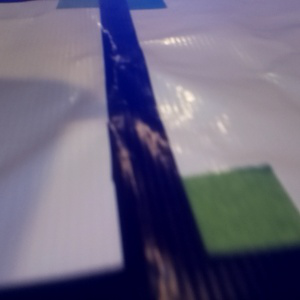bottom_left: (39, 1, 127, 20)
bottom_right: (99, 1, 189, 20)
top_right: (123, 132, 300, 300)
